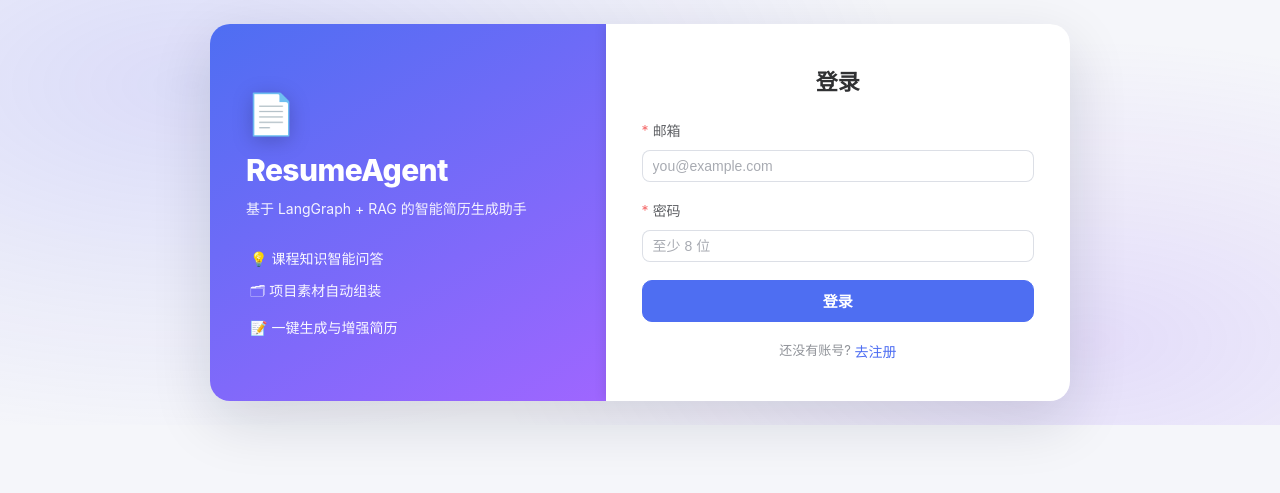
Scenario: LoginView › 登录失败:展示后端错误文案,停在登录页
Step 1. Type "a@qq.com" into the field labelled "邮箱" → (838, 166), box [653, 151, 1023, 181]
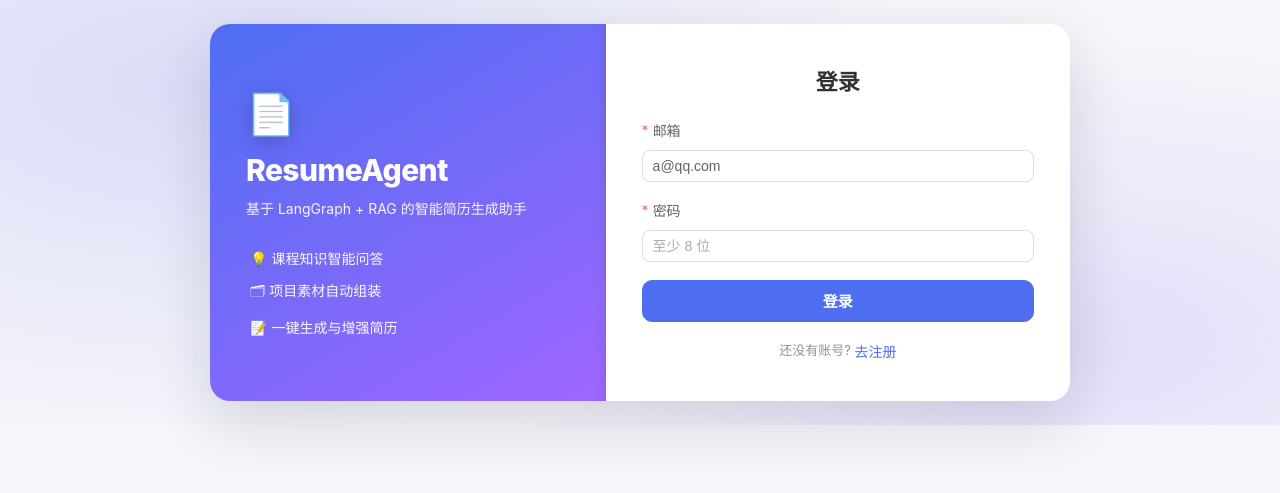
Step 2. Type "password123" into the password field labelled "密码" → (838, 246), box [653, 231, 1023, 261]
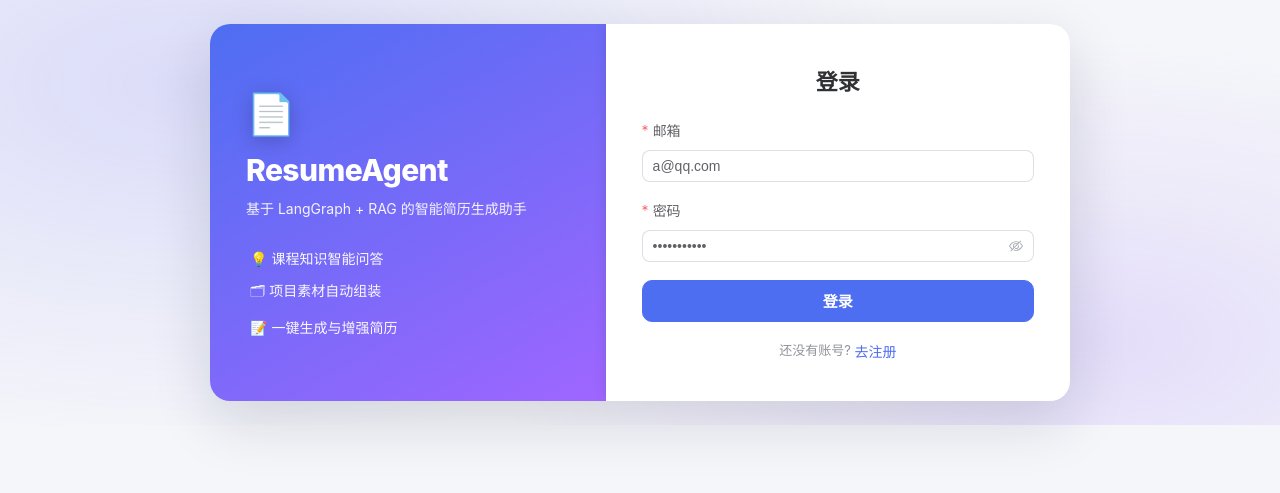
Step 3. Submit the form, box [642, 120, 1034, 322]
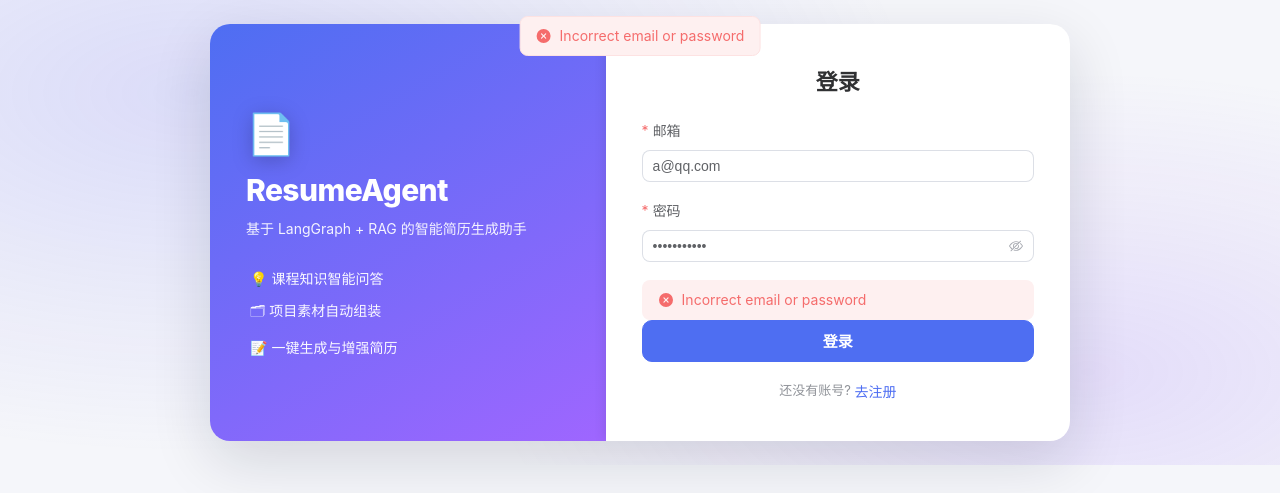
Check: the text "Incorrect email or password" is shown, box [682, 288, 866, 312]
